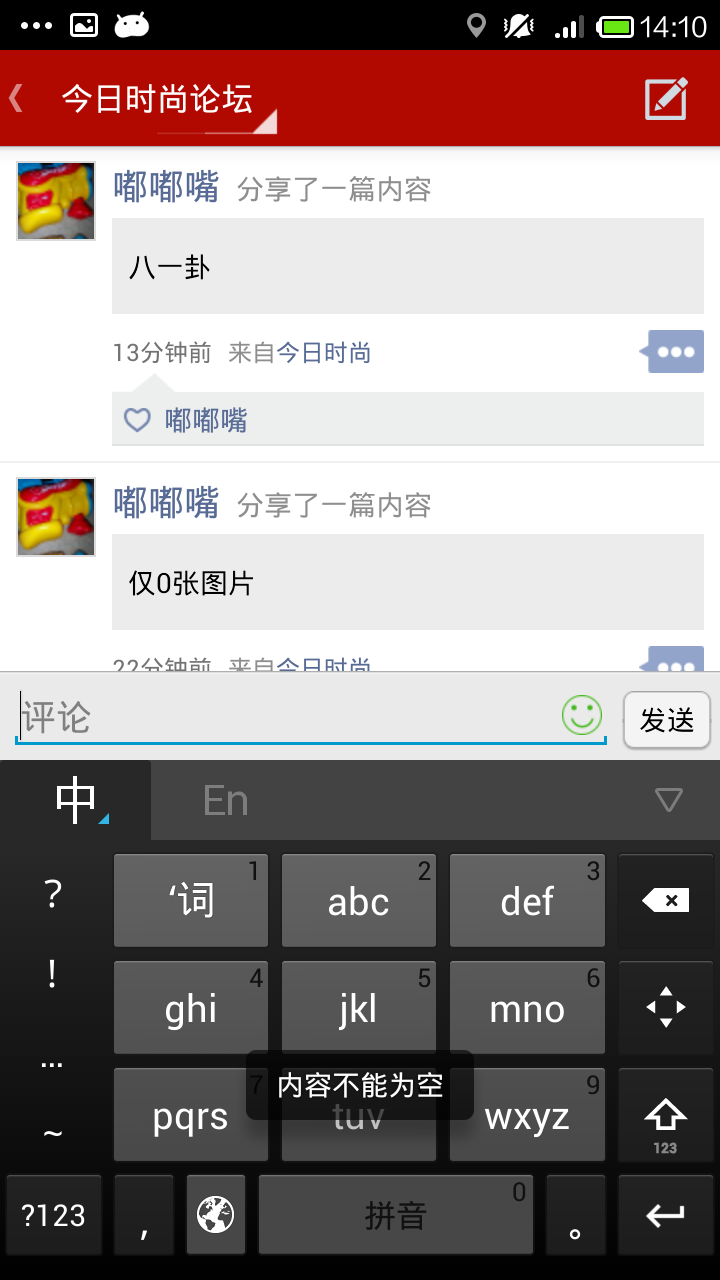checkbox: (118, 401, 157, 442)
